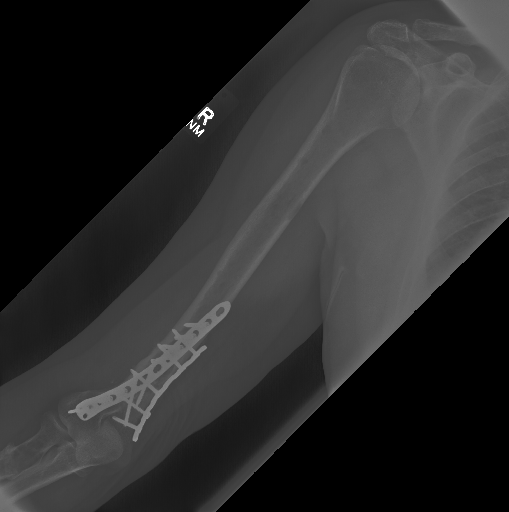implant: (67, 300, 236, 447)
